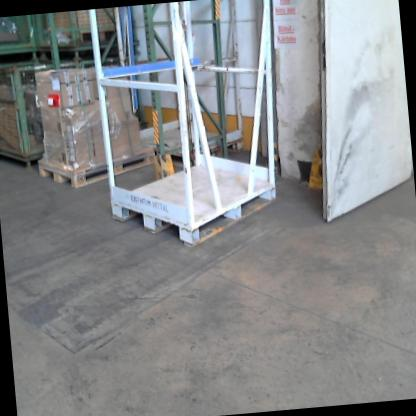pallet: (32, 143, 160, 187)
stillage: (0, 56, 81, 168), (37, 10, 133, 63), (0, 16, 41, 52)
